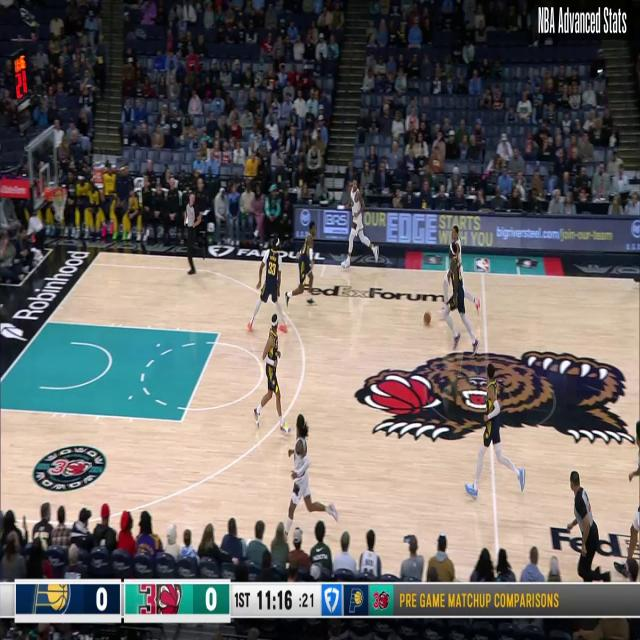ball: (423, 311, 431, 326)
judge: (560, 462, 608, 586), (181, 186, 203, 278)
player: (464, 366, 524, 496), (283, 419, 338, 528), (440, 238, 481, 364), (253, 308, 290, 438), (440, 222, 482, 333), (248, 237, 291, 341), (339, 179, 379, 270), (286, 223, 321, 315)
